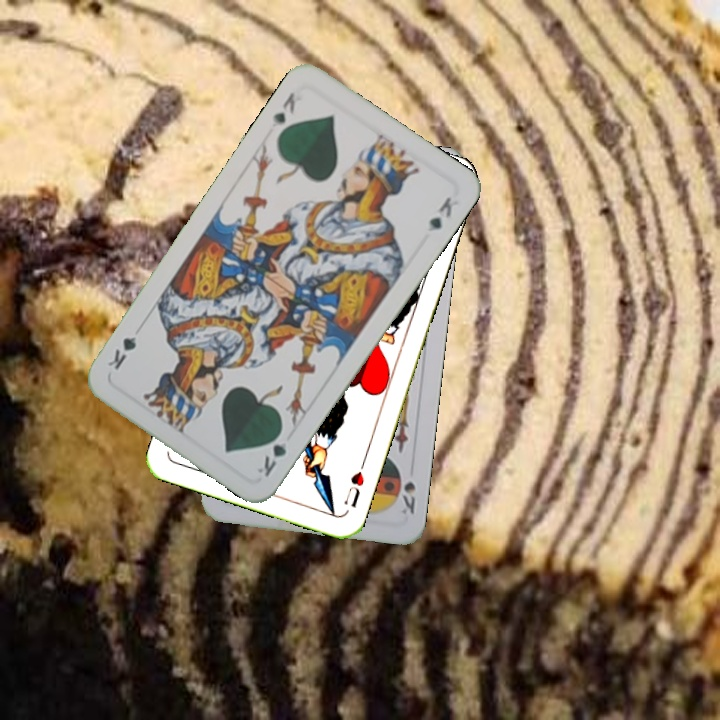GK: (253, 424, 290, 480), (268, 88, 298, 128)
HU: (340, 457, 368, 510)
SK: (396, 477, 418, 517)
